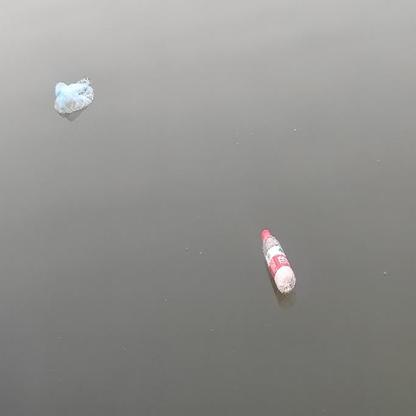plastic bag: (53, 77, 94, 114)
plastic bottle: (260, 229, 296, 293)
